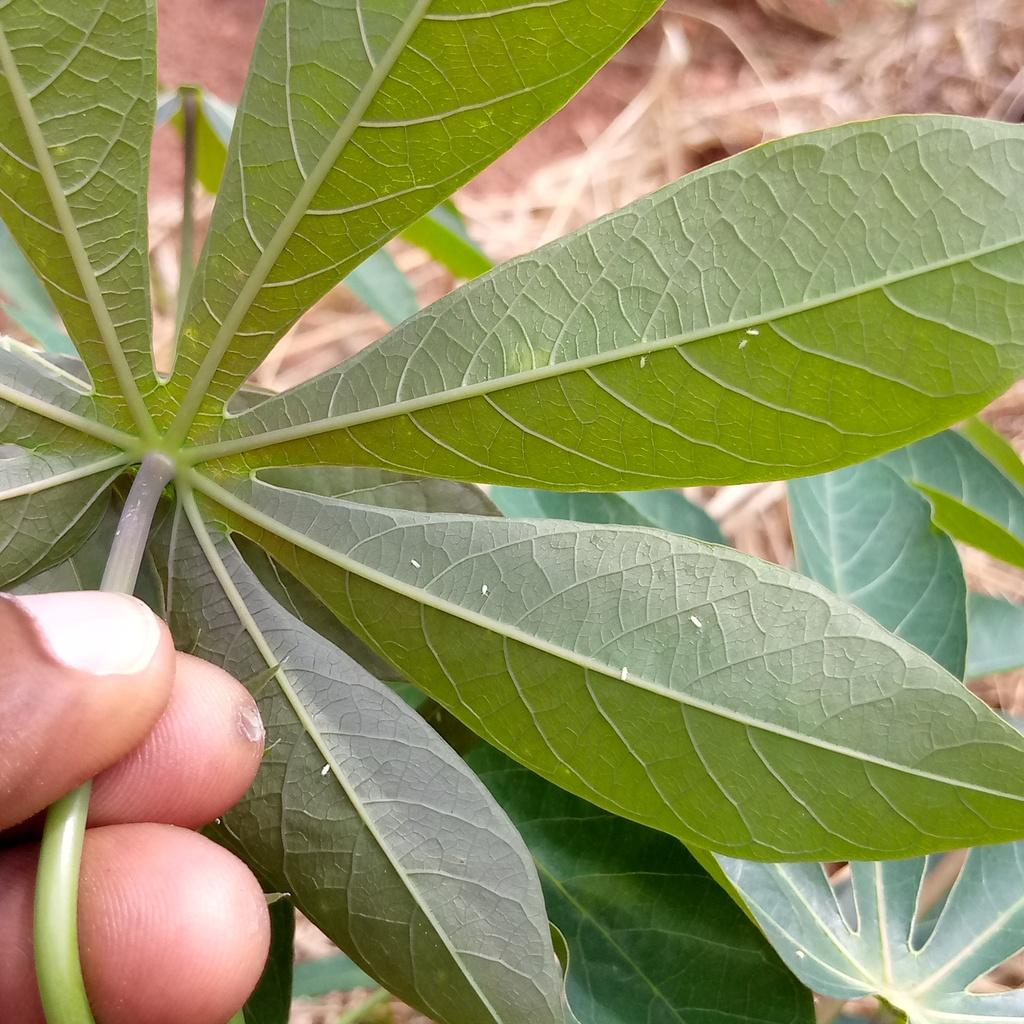adult: (689, 615, 703, 629), (320, 764, 331, 776), (620, 666, 629, 680), (410, 559, 421, 569), (738, 340, 748, 350), (639, 356, 647, 368), (746, 329, 759, 336), (481, 585, 489, 596), (795, 951, 805, 959)
